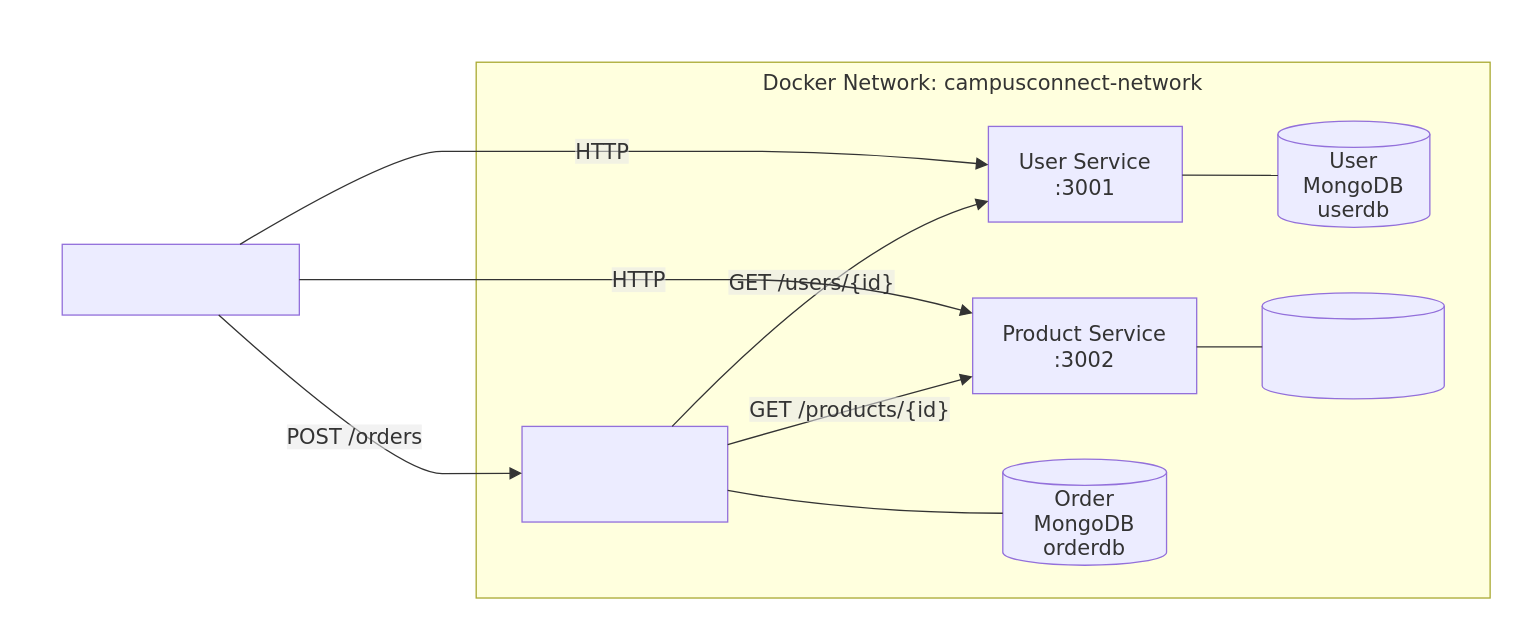
Image size: 1513x621. Some labels were removed from this diagram. Each missing label, with the centre of its shape:
Order Service :3003: [624,473]
Postman / Client: [180,279]
Product MongoDB productdb: [1352,345]
